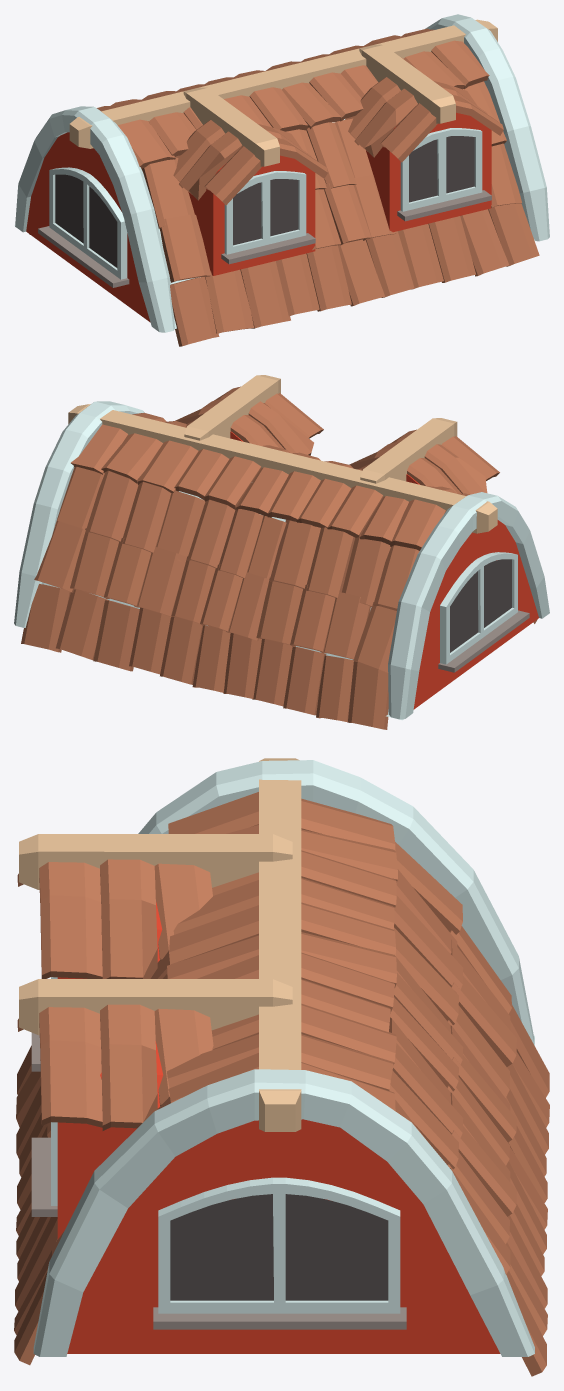
Rendered from Testhouse_Roof_VAR2.fbx.
3 renders of one model, top to bottom at view 1: azimuth 30°, elevation 25°; view 2: azimuth 150°, elevation 25°; view 3: azimuth 270°, elevation 25°, orthographic. The views are drawn at different scales.
Parts seen in each view (by area): view 1: Testhouse_Roof.002; view 2: Testhouse_Roof.002; view 3: Testhouse_Roof.002.
Part boxes in pixels (x1=…): Testhouse_Roof.002: x1=14, y1=14, x2=549, y2=346; Testhouse_Roof.002: x1=14, y1=375, x2=549, y2=729; Testhouse_Roof.002: x1=14, y1=758, x2=549, y2=1376.
Size of the model in its own units: 219 by 143 by 91.71.
